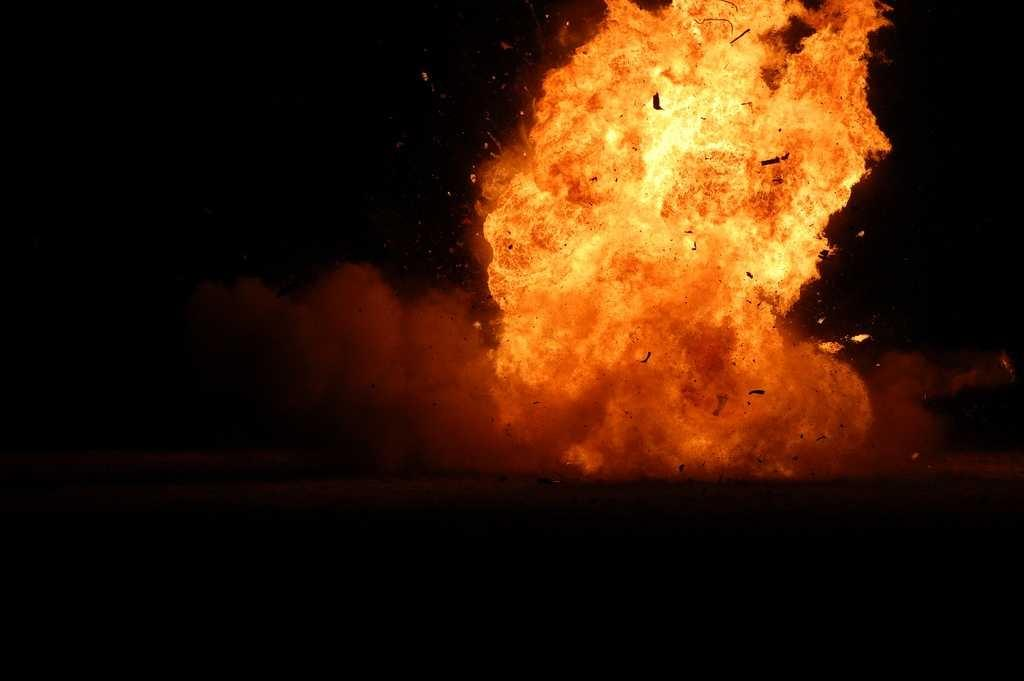fire: (534, 6, 835, 269), (504, 295, 800, 457)
